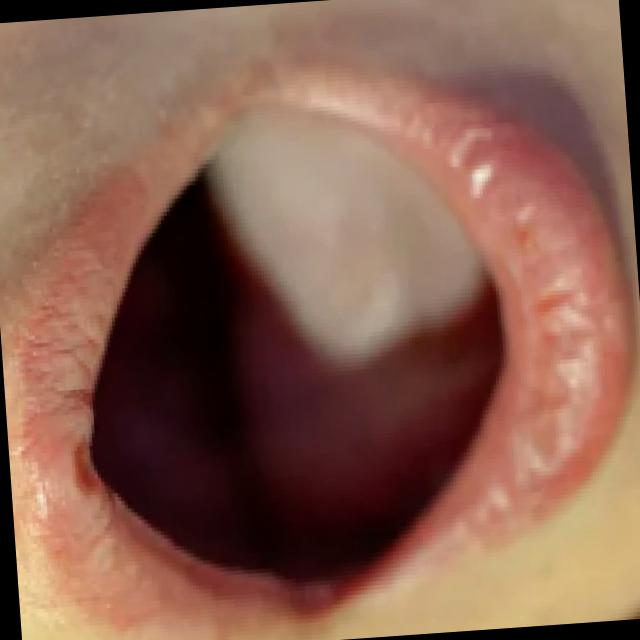No Cancer: (215, 144, 468, 492)
